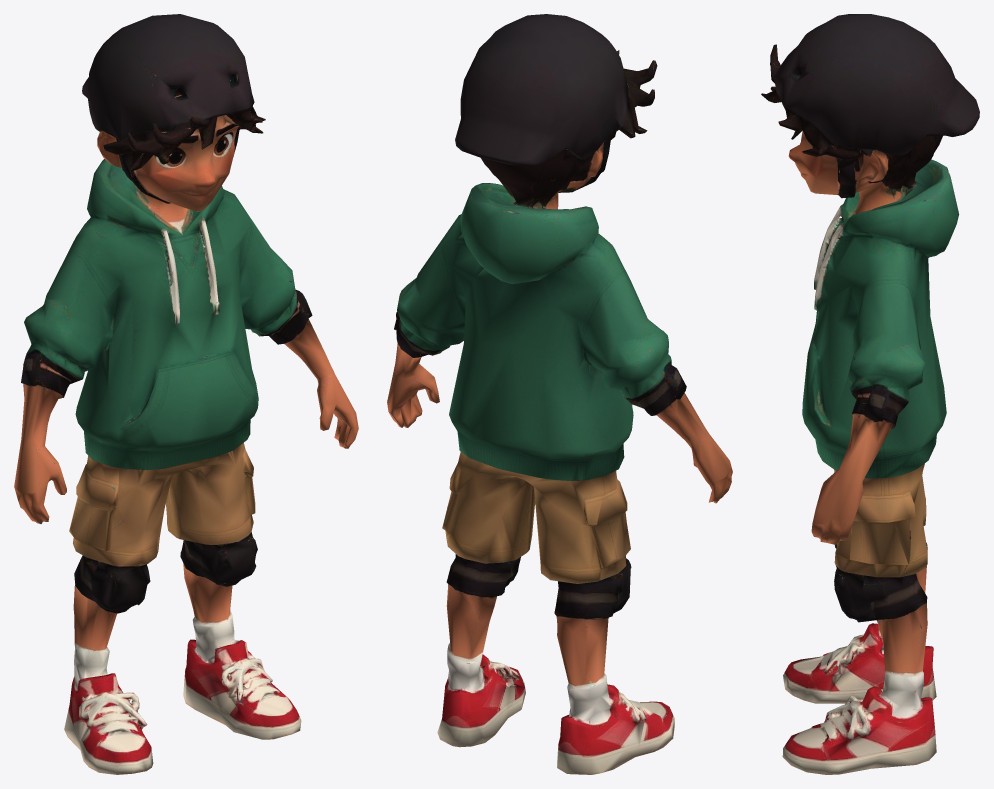
Rendered from rider.glb.
The picture shows the model from 3 angles, left to right: view 1: azimuth 30°, elevation 25°; view 2: azimuth 150°, elevation 25°; view 3: azimuth 270°, elevation 25°; orthographic projection.
Visible parts, largest first — view 1: Mesh_0; view 2: Mesh_0; view 3: Mesh_0.
Boxes of the visible parts, x1,y1,x2,y2 form: Mesh_0: (14, 14, 358, 774); Mesh_0: (387, 14, 732, 774); Mesh_0: (761, 14, 979, 774).
Size of the model in its own units: 0.9321 by 1.9 by 0.5327.
1 material, 1 textured.
